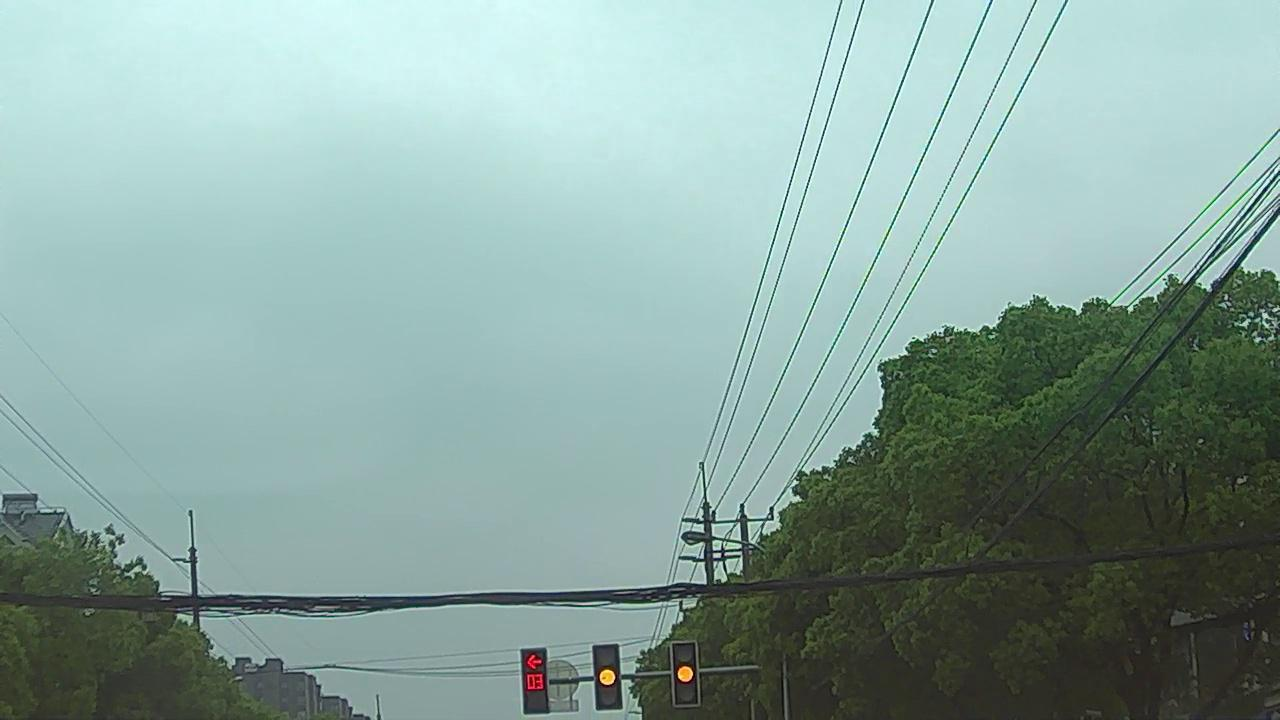traffic_light: (591, 644, 624, 711), (521, 646, 550, 713), (671, 642, 700, 706)
